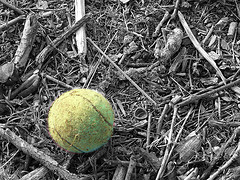tennis ball: (48, 88, 114, 153)
